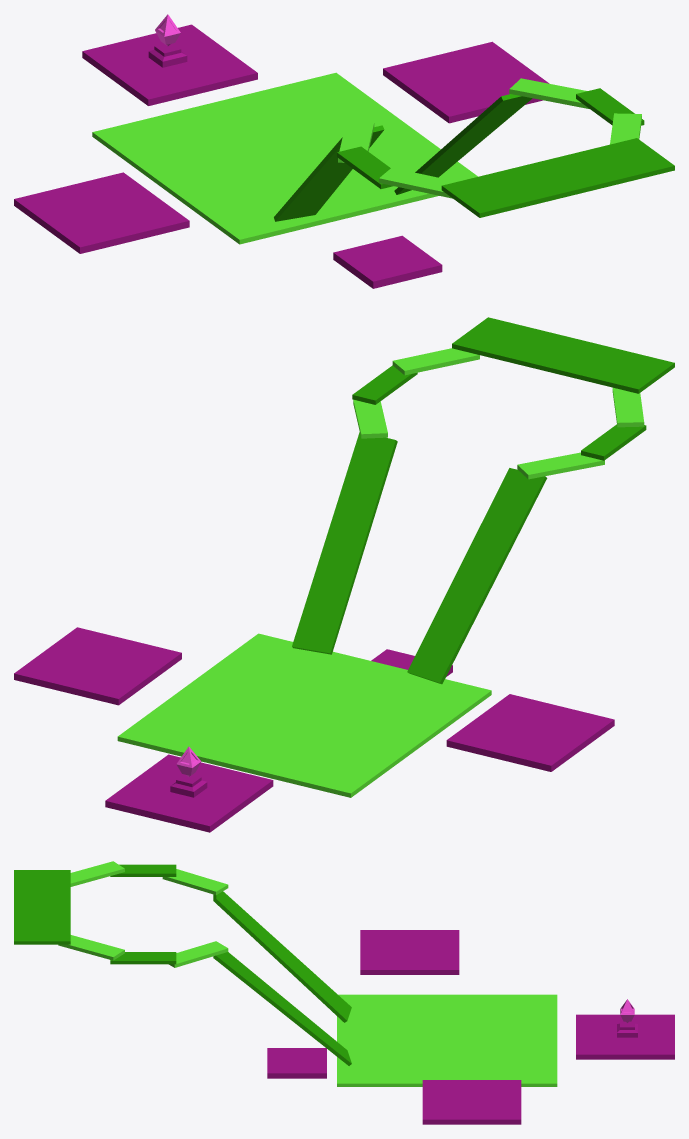
File: Level 5.fbx
3 renders of one model, top to bottom at view 1: azimuth 30°, elevation 25°; view 2: azimuth 150°, elevation 25°; view 3: azimuth 270°, elevation 25°, orthographic. The views are drawn at different scales.
Parts seen in each view (by area): view 1: Cube.072, Cube.071, Cube.075, Cube.076, Cube.074, Cube.069, Cube.070, Cube.066, Cube.067, Cube.068, Cube.073, Cube.077; view 2: Cube.072, Cube.069, Cube.071, Cube.075, Cube.074, Cube.076, Cube.068, Cube.066, Cube.067; view 3: Cube.072, Cube.069, Cube.074, Cube.075, Cube.071, Cube.076, Cube.070, Cube.068, Cube.066, Cube.067.
Boxes of the visible parts, x1,y1,x2,y2 form: Cube.072: (92, 72, 477, 244); Cube.071: (441, 138, 674, 217); Cube.075: (14, 172, 189, 253); Cube.076: (82, 24, 257, 105); Cube.074: (383, 41, 549, 123); Cube.069: (274, 94, 532, 221); Cube.070: (333, 235, 442, 288); Cube.066: (337, 88, 644, 188); Cube.067: (338, 78, 589, 162); Cube.068: (379, 113, 641, 198); Cube.073: (148, 43, 187, 67); Cube.077: (155, 14, 180, 45); Cube.072: (117, 633, 491, 797); Cube.069: (292, 432, 547, 684); Cube.071: (452, 317, 674, 393); Cube.075: (446, 694, 614, 771); Cube.074: (14, 627, 181, 705); Cube.076: (105, 754, 273, 832); Cube.068: (392, 348, 644, 427); Cube.066: (352, 365, 646, 460); Cube.067: (353, 399, 604, 479); Cube.072: (337, 994, 557, 1086); Cube.069: (213, 891, 351, 1065); Cube.074: (422, 1080, 521, 1124); Cube.075: (360, 930, 459, 974); Cube.071: (14, 870, 70, 944); Cube.076: (576, 1014, 674, 1059); Cube.070: (267, 1048, 326, 1078); Cube.068: (58, 861, 124, 960); Cube.066: (110, 864, 176, 964); Cube.067: (162, 869, 228, 967).
Size of the model in its own units: 5278 by 2082 by 7764.
